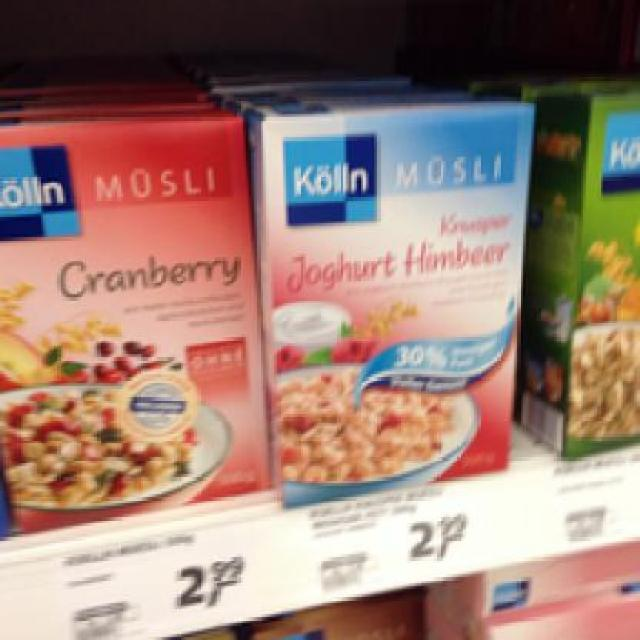Cereal: (242, 93, 535, 510), (0, 99, 269, 535)
